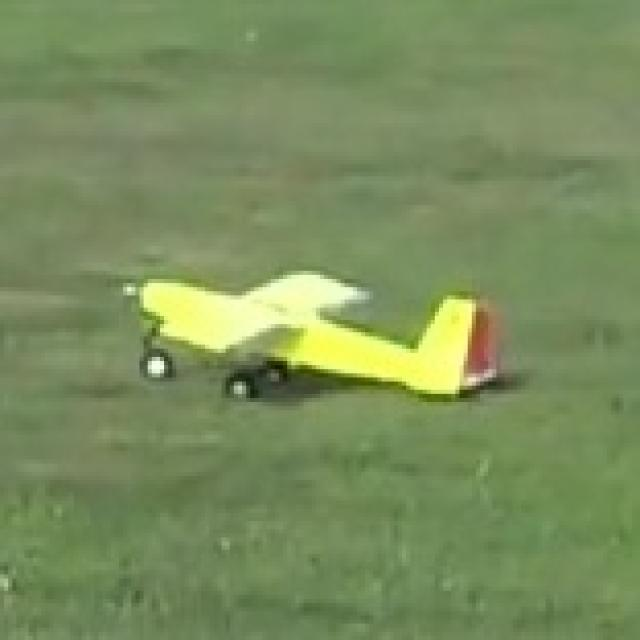iha: (130, 222, 518, 426)
